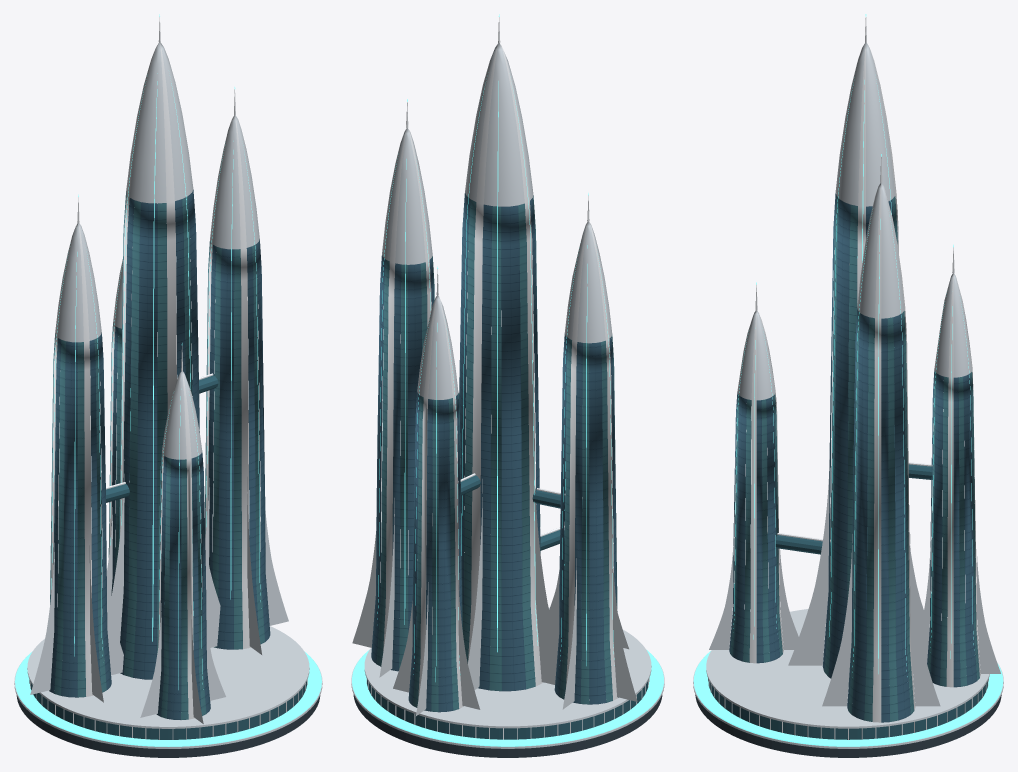
File: futuristic-towers-01.glb
3 renders of one model, left to right at view 1: azimuth 30°, elevation 25°; view 2: azimuth 150°, elevation 25°; view 3: azimuth 270°, elevation 25°, orthographic.
Visible parts, largest first — view 1: Podium.Lower terrace, 01.Central spire.Envelope, Podium.Upper lobby; view 2: Podium.Lower terrace, 01.Central spire.Envelope, Podium.Upper lobby; view 3: Podium.Lower terrace, 01.Central spire.Envelope, Podium.Upper lobby.
Part boxes in pixels (bbox=[...]): Podium.Lower terrace: bbox=[14, 14, 322, 757]; 01.Central spire.Envelope: bbox=[49, 189, 270, 719]; Podium.Upper lobby: bbox=[29, 191, 306, 739]; Podium.Lower terrace: bbox=[351, 14, 664, 757]; 01.Central spire.Envelope: bbox=[371, 193, 618, 712]; Podium.Upper lobby: bbox=[367, 195, 648, 739]; Podium.Lower terrace: bbox=[693, 14, 1003, 757]; 01.Central spire.Envelope: bbox=[729, 193, 976, 722]; Podium.Upper lobby: bbox=[708, 196, 988, 739].
Size of the model in its own units: 144 by 342 by 142.
Materials: 3 (3 with a texture image).
